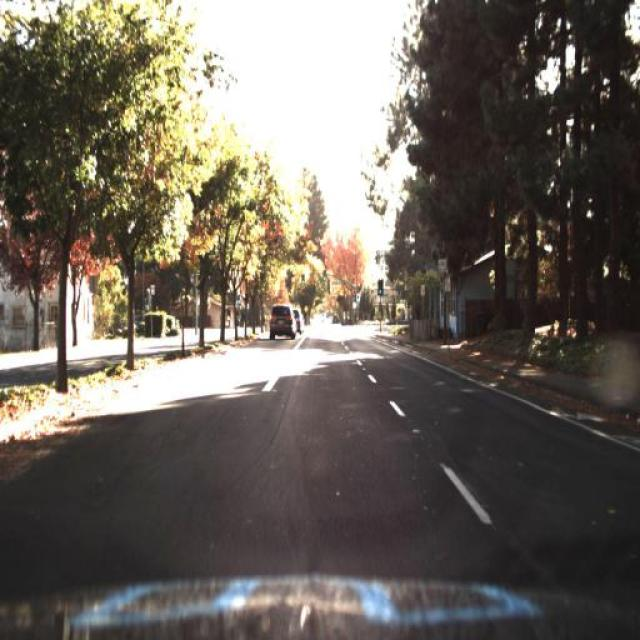car: (266, 301, 292, 341), (296, 307, 306, 332)
trafficLight-Green: (377, 276, 387, 296)
trafficLight-GreenLeft: (374, 275, 384, 299), (323, 263, 332, 288), (232, 288, 242, 307), (298, 266, 306, 288)
